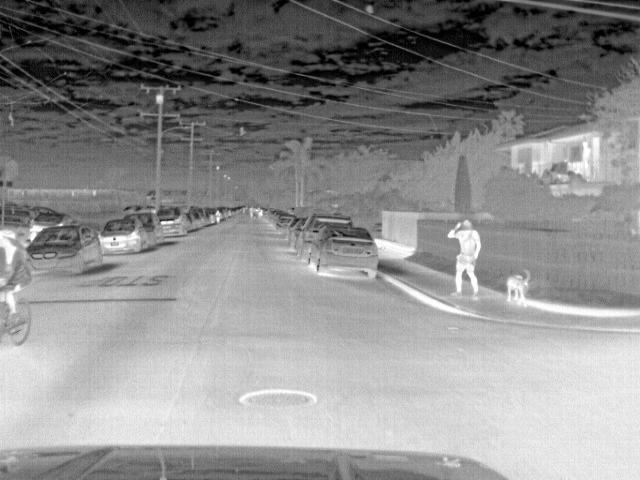car: (307, 226, 382, 282), (30, 220, 105, 273), (298, 216, 353, 262), (101, 216, 147, 252), (28, 203, 78, 229), (128, 208, 163, 244), (158, 204, 188, 234), (284, 214, 310, 244), (273, 214, 295, 234), (189, 211, 203, 228)
dog: (506, 271, 532, 302)
person: (443, 219, 485, 297), (1, 228, 30, 318), (211, 208, 224, 224)
